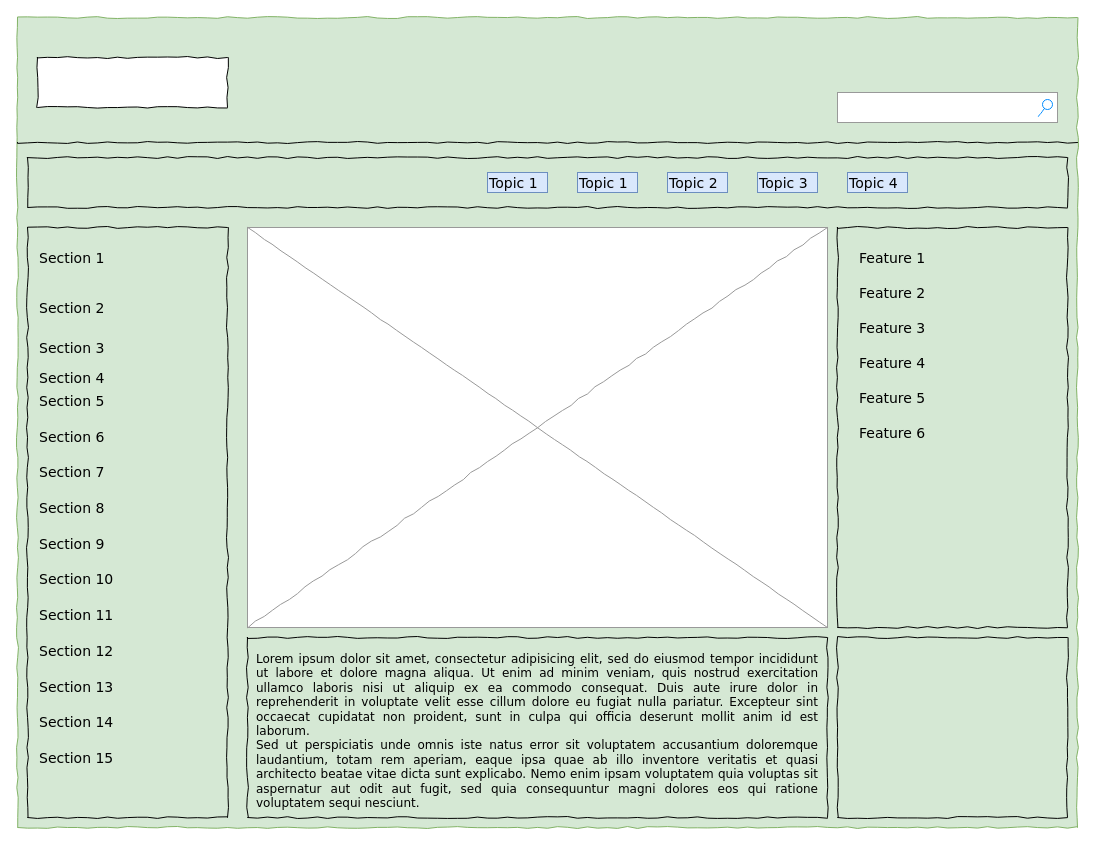
The diagram is 1095 pixels wide and 845 high, and some of its shapes have lost their labels. The shapes that lost their labels are listed below. From the top down, each one's centre as x and y in pixels, then its label:
At (x=132, y=82): "LOGO".
At (x=947, y=107): "Search".
At (x=952, y=727): "External Links".
